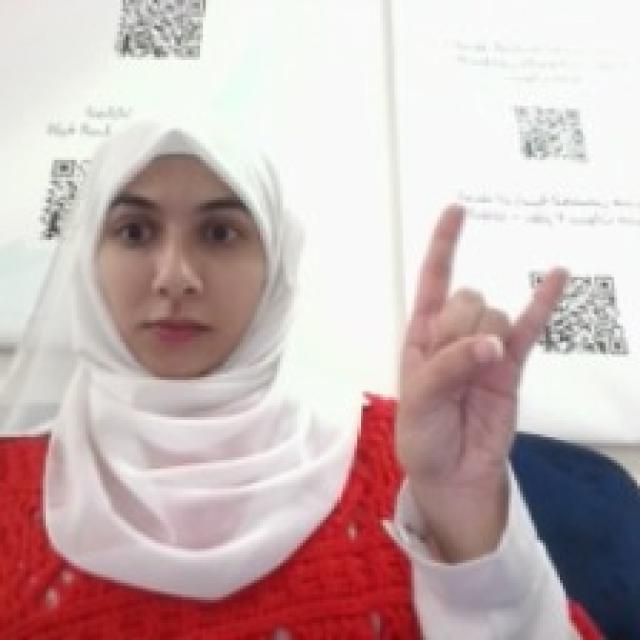No: (392, 191, 577, 486)
